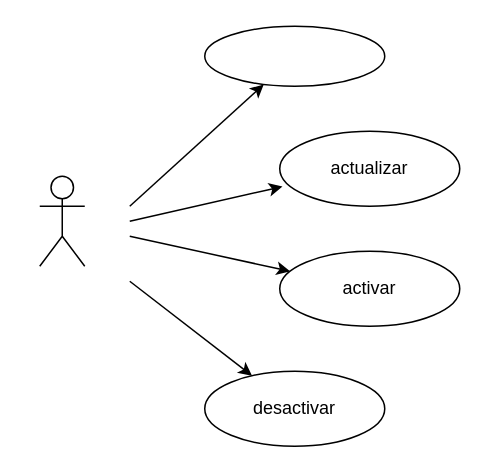
This 486x473 diagram has some shape labels left out. The centre of each missing label's shape, as x and y in pixels:
crear: point 294,55
operador: point 61,220
